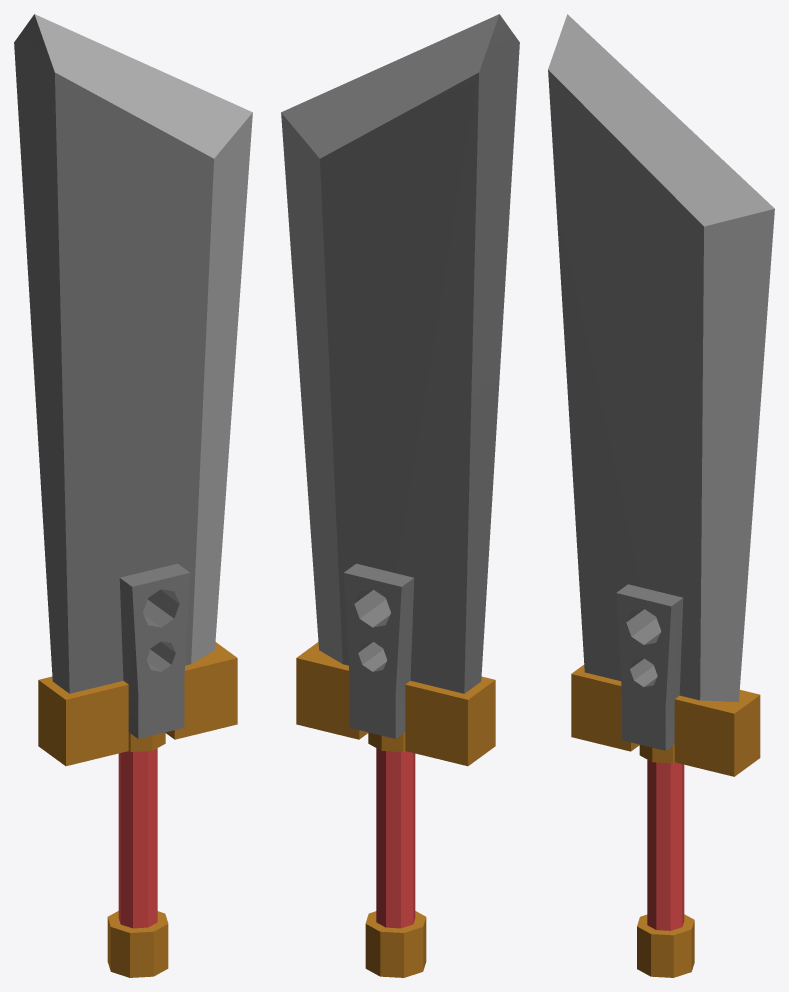
File: Mdl_Buster_Sword.fbx
3 views of the same model, side by side, from view 1: azimuth 30°, elevation 25°; view 2: azimuth 150°, elevation 25°; view 3: azimuth 330°, elevation 25° (orthographic). The views are drawn at different scales.
Parts seen in each view (by area): view 1: Mdl_Buster_Sword; view 2: Mdl_Buster_Sword; view 3: Mdl_Buster_Sword.
Part boxes in pixels (box(x1,y1,x2,y2)): Mdl_Buster_Sword: box(14, 14, 252, 977); Mdl_Buster_Sword: box(281, 14, 519, 977); Mdl_Buster_Sword: box(548, 14, 774, 977).
Size of the model in its own units: 2.7 by 11.52 by 0.9909.
